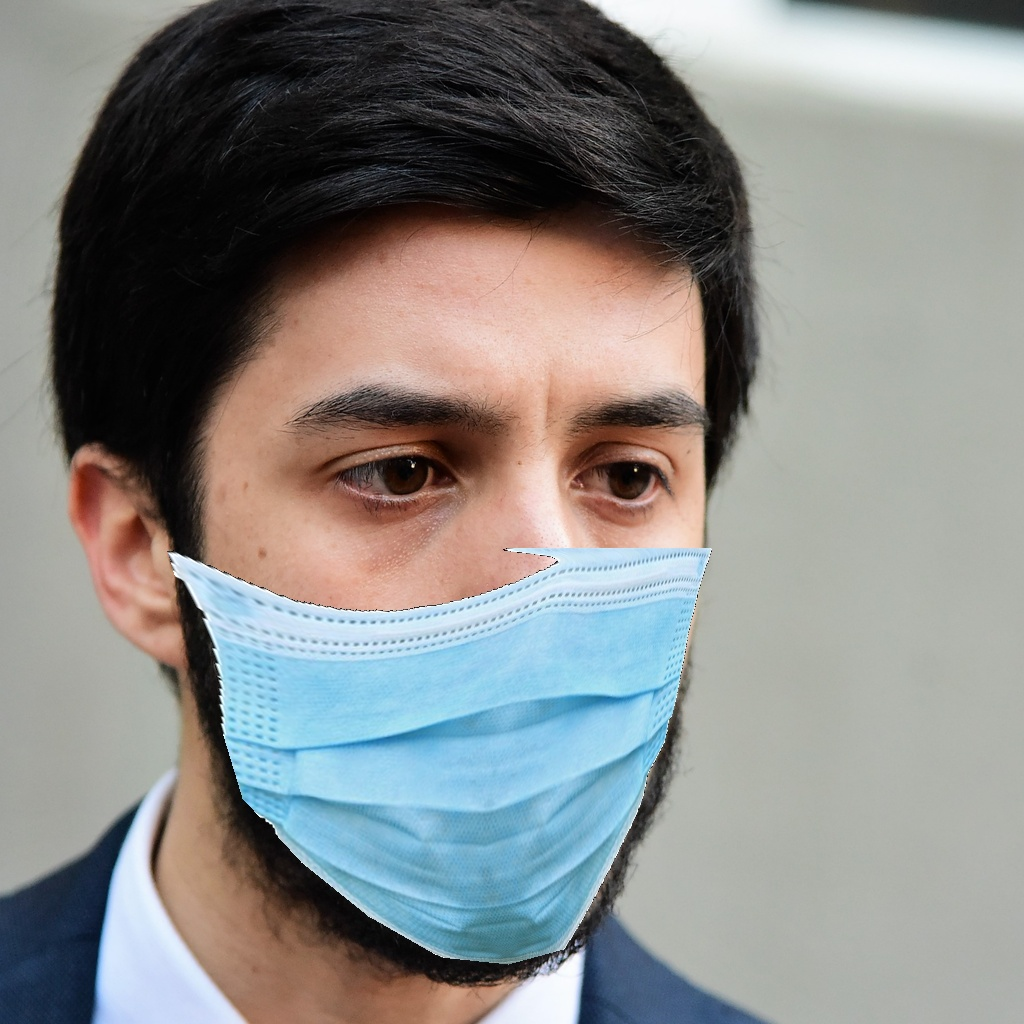Mask: (168, 339, 711, 975)
